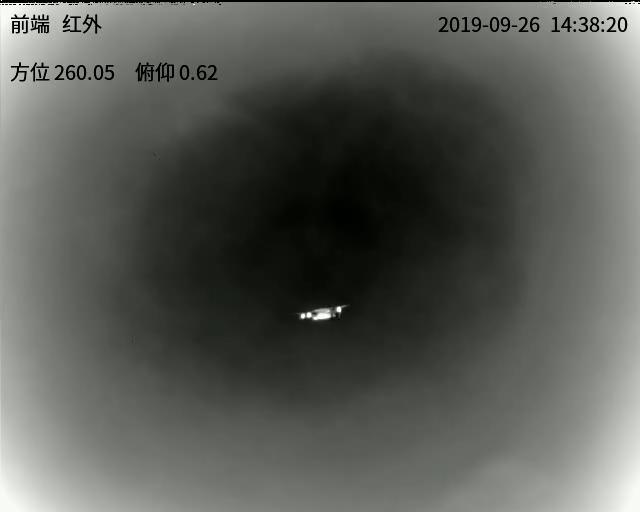uav: (288, 295, 349, 326)
